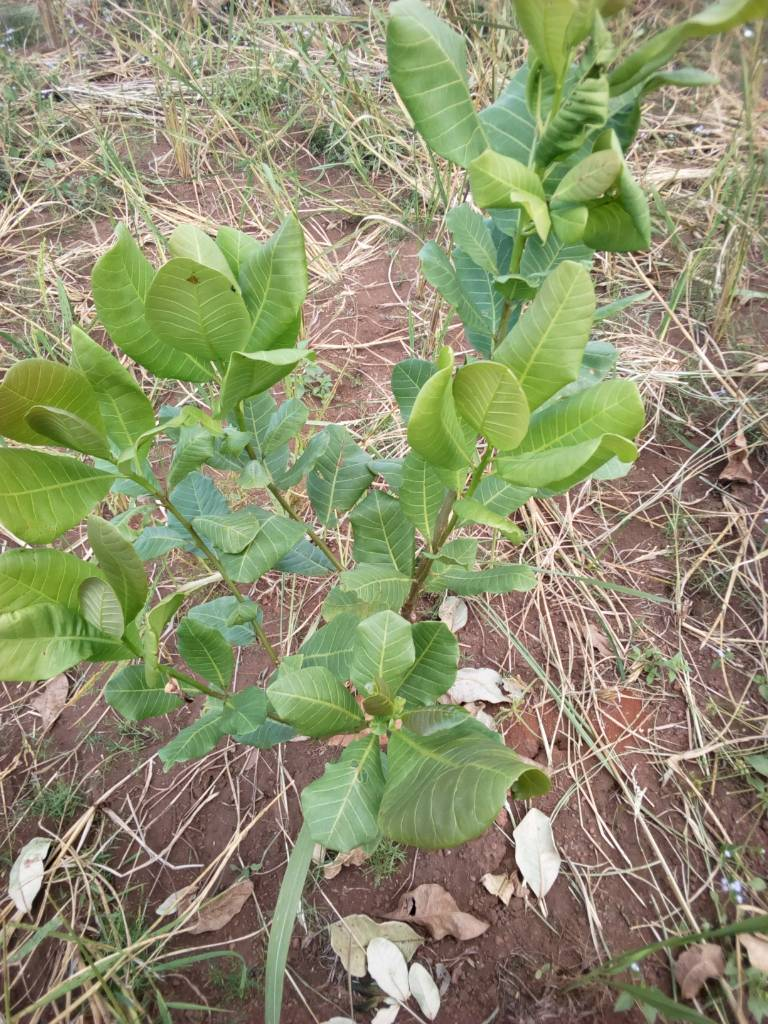Helopeltis anacardii: (544, 11, 665, 252), (372, 722, 544, 841), (213, 347, 318, 424)
